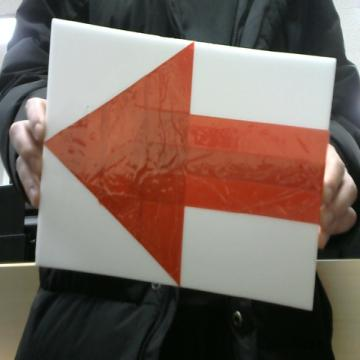red_left: (46, 44, 328, 284)
